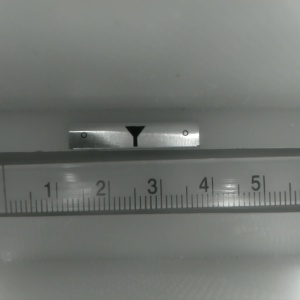1: (41, 183, 49, 198)
2: (95, 179, 106, 195)
3: (146, 178, 156, 194)
4: (197, 177, 208, 192)
5: (250, 175, 261, 191)
finger: (124, 126, 145, 146)
